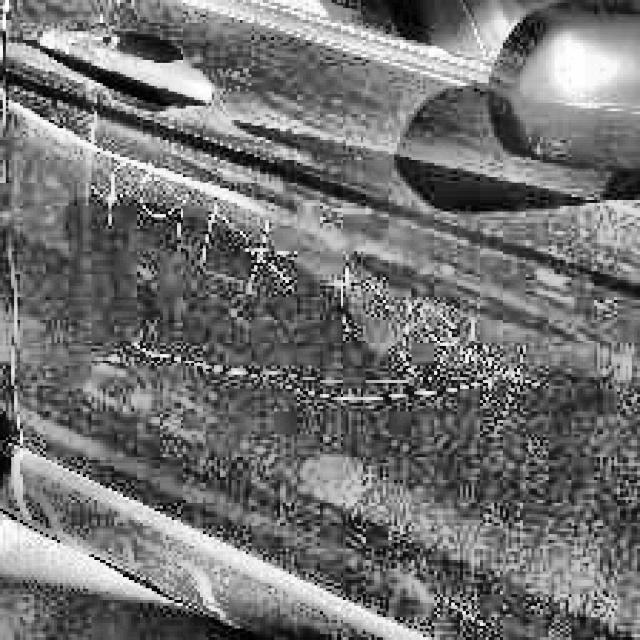door_scratch: (317, 250, 523, 429), (106, 158, 306, 308), (118, 331, 310, 395)
